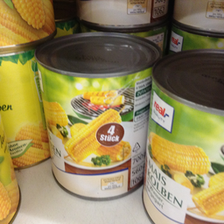corn: (34, 32, 158, 201), (140, 50, 224, 220)
